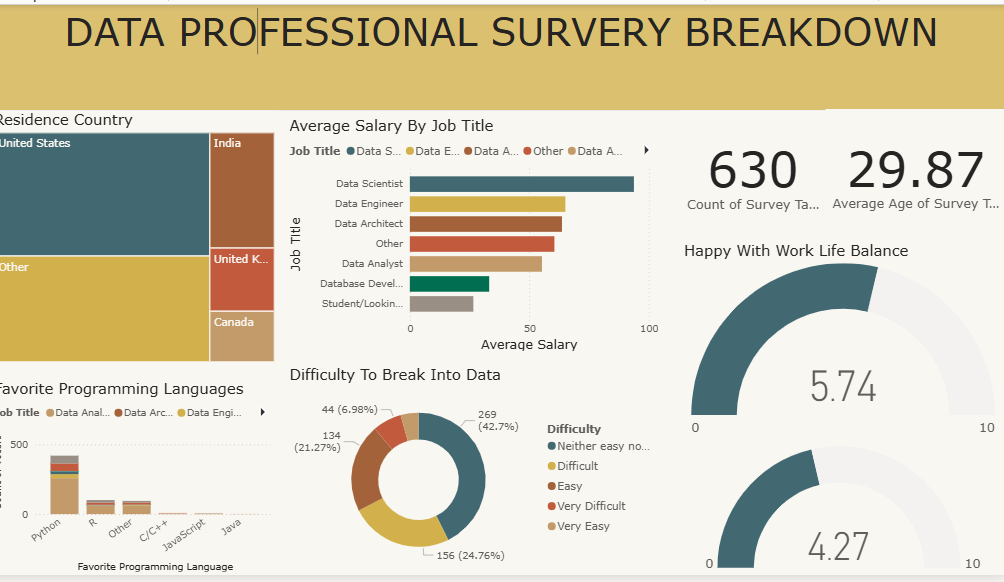

The page's visual inventory and layout, read from the dashboard file:
{"tool":"powerbi","page":{"name":"Page 1","canvas":[1280,720],"ordinal":0},"visuals":[{"type":"textbox","box":[9.4,0,1269.9,134.2],"z":0},{"type":"card","fields":{"Values":["CountNonNull(Data Professional Survey.Unique ID)"]},"box":[869.3,134.2,183.3,160.6],"z":1000},{"type":"card","fields":{"Values":["Avg(Data Professional Survey.Q10 - Current Age)"]},"box":[1052.6,132.3,226.8,162.5],"z":2000},{"type":"barChart","title":"Average Salary By Job Title","fields":{"Category":["Data Professional Survey.Q1 - Which Title Best Fits your Current Role?.1"],"Y":["Avg(Data Professional Survey.Average Salary)"],"Series":["Data Professional Survey.Q1 - Which Title Best Fits your Current Role?.1"]},"box":[372.3,141.7,474.3,300.5],"z":3000},{"type":"columnChart","title":"Favorite Programming Languages","fields":{"Category":["Data Professional Survey.Q5 - Favorite Programming Language.1"],"Y":["CountNonNull(Data Professional Survey.Unique ID)"],"Series":["Data Professional Survey.Q1 - Which Title Best Fits your Current Role?.1"]},"box":[0,472.4,362.8,247.6],"z":4000},{"type":"treemap","title":"Residence Country","fields":{"Group":["Data Professional Survey.Q11 - Which Country do you live in?.1"],"Values":["CountNonNull(Data Professional Survey.Q11 - Which Country do you live in?.1)"]},"box":[0,134.2,362.8,321.3],"z":5000},{"type":"gauge","title":"Happiness With Salary","fields":{"Y":["Avg(Data Professional Survey.Q6 - How Happy are you in your Current Position with the following? (Salary))"],"MinValue":["Min(Data Professional Survey.Q6 - How Happy are you in your Current Position with the following? (Salary))"],"MaxValue":["Max(Data Professional Survey.Q6 - How Happy are you in your Current Position with the following? (Salary))"]},"box":[869.3,529.1,410.1,190.9],"z":6000},{"type":"gauge","title":"Happy With Work Life Balance","fields":{"Y":["Avg(Data Professional Survey.Q6 - How Happy are you in your Current Position with the following? (Work/Life Balance))"],"MinValue":["Min(Data Professional Survey.Q6 - How Happy are you in your Current Position with the following? (Work/Life Balance))1"],"MaxValue":["Max(Data Professional Survey.Q6 - How Happy are you in your Current Position with the following? (Work/Life Balance))2"]},"box":[869.3,298.6,410.1,253.2],"z":7000},{"type":"donutChart","title":"Difficulty To Break Into Data","fields":{"Category":["Data Professional Survey.Q7 - How difficult was it for you to break into Data?"],"Y":["CountNonNull(Data Professional Survey.Q7 - How difficult was it for you to break into Data?)"]},"box":[372.3,455.4,474.3,264.6],"z":8000}]}

Visuals, with their boxes in screenshot pixels (x1, y1, x2, y2), scaled from the page's 1280x720 canvas onto the 1004x582 screenshot:
textbox: locate(7, 0, 1003, 108)
card - CountNonNull(Data Professional Survey.Unique ID): locate(682, 108, 826, 238)
card - Avg(Data Professional Survey.Q10 - Current Age): locate(826, 107, 1003, 238)
"Average Salary By Job Title" barChart: locate(292, 115, 664, 357)
"Favorite Programming Languages" columnChart: locate(0, 382, 285, 581)
"Residence Country" treemap: locate(0, 108, 285, 368)
"Happiness With Salary" gauge: locate(682, 428, 1003, 581)
"Happy With Work Life Balance" gauge: locate(682, 241, 1003, 446)
"Difficulty To Break Into Data" donutChart: locate(292, 368, 664, 581)
